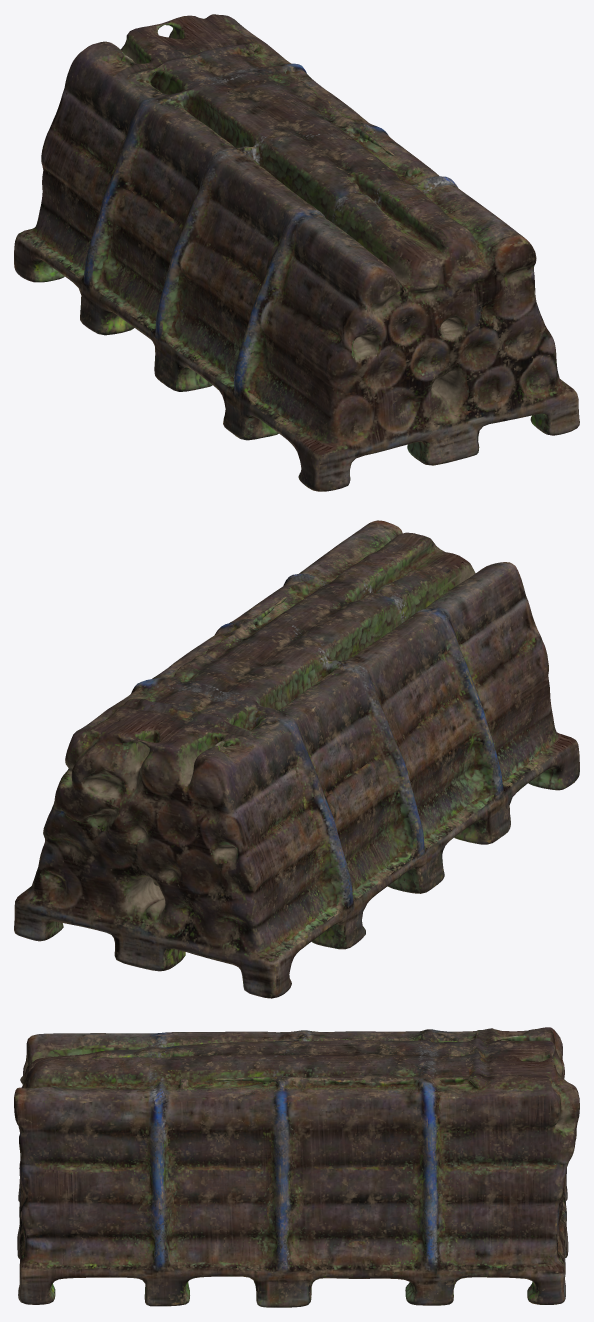
File: abandoned_wooden_log_pallet.glb
3 views of the same model, one above another, from view 1: azimuth 30°, elevation 25°; view 2: azimuth 150°, elevation 25°; view 3: azimuth 270°, elevation 25° (orthographic). The views are drawn at different scales.
Parts seen in each view (by area): view 1: model; view 2: model; view 3: model.
Part boxes in pixels (<box>): model: <box>14,14,579,491</box>; model: <box>14,520,579,998</box>; model: <box>14,1027,579,1307</box>.
Size of the model in its own units: 0.8493 by 0.6533 by 1.68.
1 material, 1 textured.
